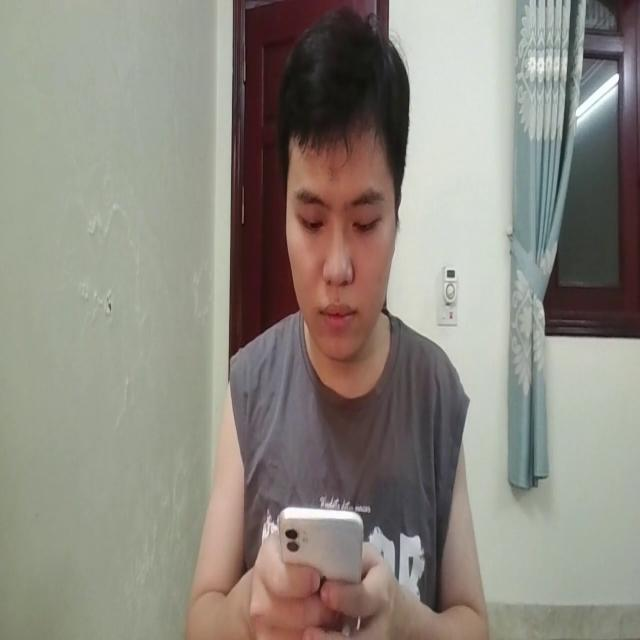phone: (277, 491, 370, 618)
student: (187, 15, 487, 640)
